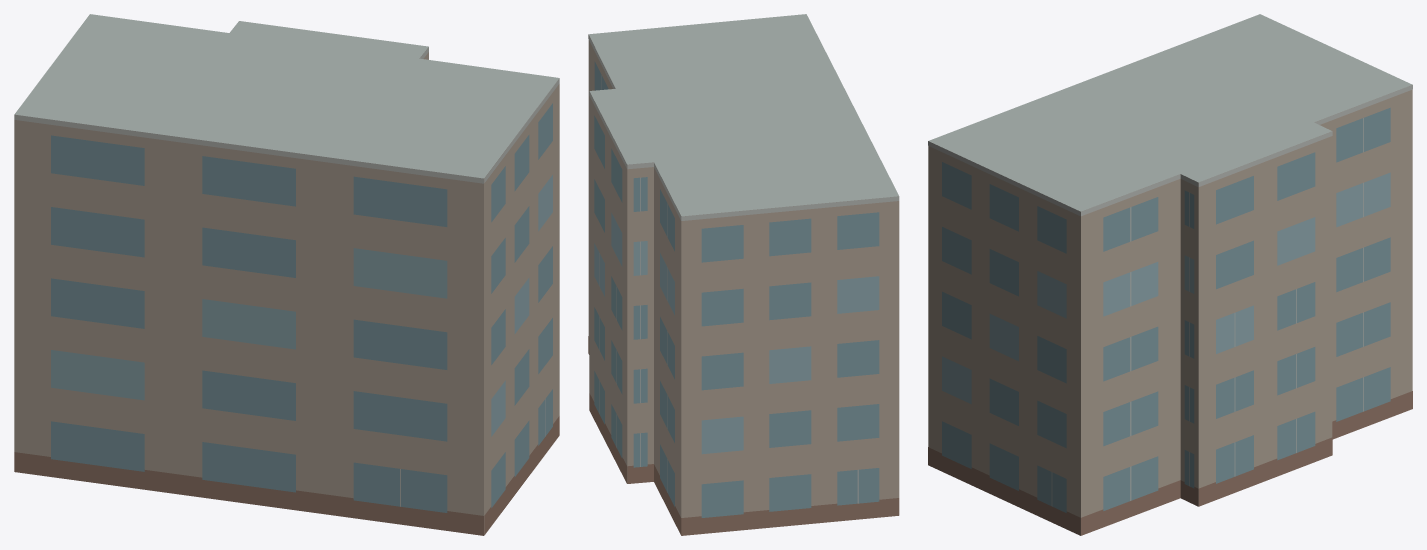
The model's file is survey-upis-32837971.glb.
The picture shows the model from 3 angles, left to right: view 1: azimuth 30°, elevation 25°; view 2: azimuth 150°, elevation 25°; view 3: azimuth 270°, elevation 25°; orthographic projection. The views are drawn at different scales.
Parts seen in each view (by area): view 1: survey-upis-32837971.tmp; view 2: survey-upis-32837971.tmp; view 3: survey-upis-32837971.tmp.
Part boxes in pixels (box(x1,y1,x2,y2)): survey-upis-32837971.tmp: box(14, 14, 559, 535); survey-upis-32837971.tmp: box(588, 14, 899, 535); survey-upis-32837971.tmp: box(928, 14, 1412, 535).
Size of the model in its own units: 21.85 by 16.7 by 22.63.
